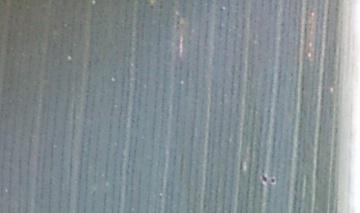tarspot: (261, 174, 269, 183), (270, 175, 276, 184)
